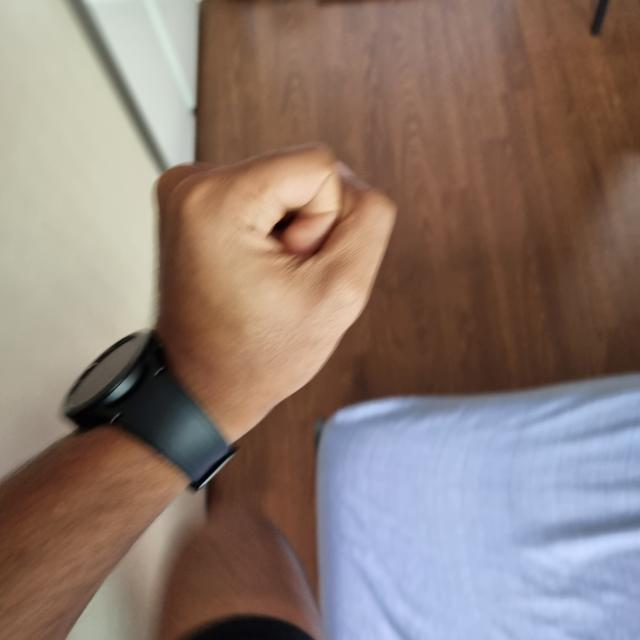Rock: (156, 146, 393, 424)
